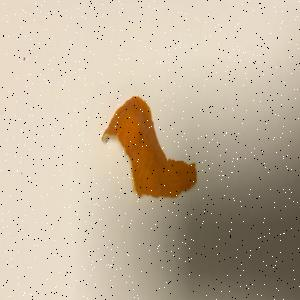Trash: (102, 96, 198, 200)
